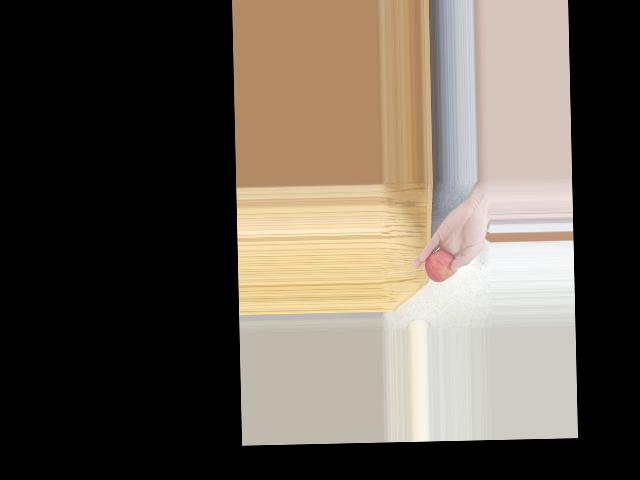apple: (425, 245, 460, 282)
